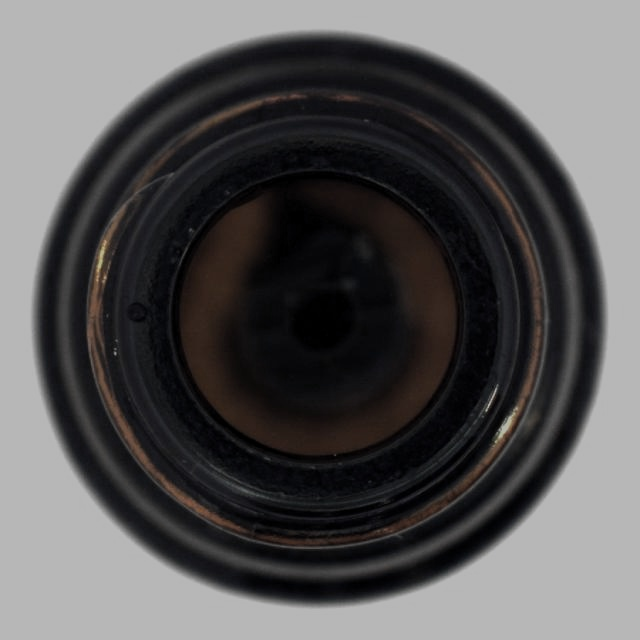bad-contamination: (31, 28, 608, 608)
